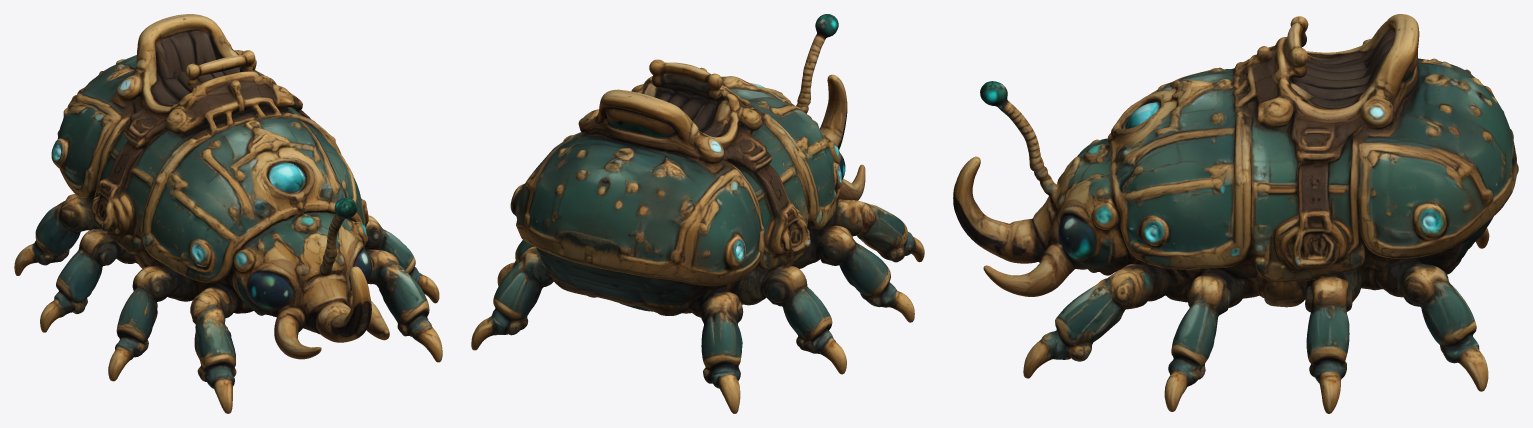
The model's file is candle-dragon.glb.
3 views of the same model, side by side, from view 1: azimuth 30°, elevation 25°; view 2: azimuth 150°, elevation 25°; view 3: azimuth 270°, elevation 25° (orthographic). The views are drawn at different scales.
Parts seen in each view (by area): view 1: geometry_0; view 2: geometry_0; view 3: geometry_0.
Part boxes in pixels (box(x1,y1,x2,y2)): geometry_0: box(14, 14, 442, 413); geometry_0: box(471, 14, 924, 413); geometry_0: box(953, 14, 1518, 413).
Bounding box in the file's own units: 0.7979 × 0.5758 × 1.
1 material, 1 textured.
